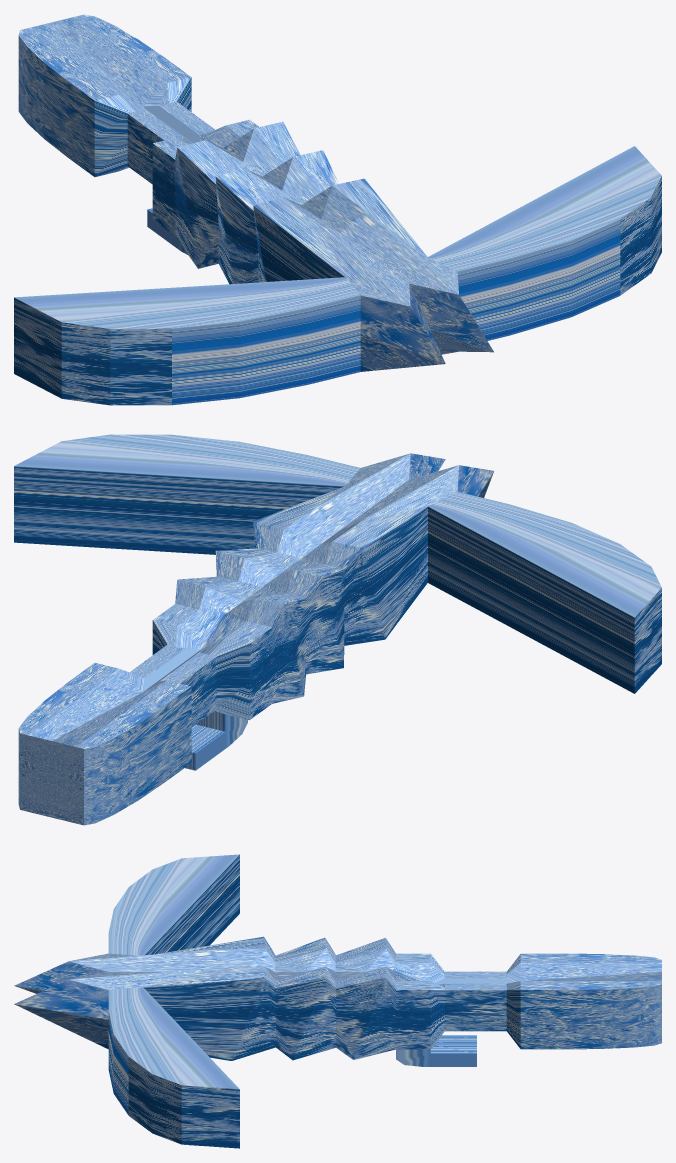
File: Ballesta Hielo2 1.fbx
The picture shows the model from 3 angles, top to bottom: view 1: azimuth 30°, elevation 25°; view 2: azimuth 150°, elevation 25°; view 3: azimuth 270°, elevation 25°; orthographic projection. The views are drawn at different scales.
Visible parts, largest first — view 1: Cubo; view 2: Cubo; view 3: Cubo.
Boxes of the visible parts, x1,y1,x2,y2 form: Cubo: (14, 14, 661, 405); Cubo: (14, 434, 661, 825); Cubo: (14, 854, 661, 1148).
Size of the model in its own units: 1282 by 255 by 1495.
1 material, 1 textured.
